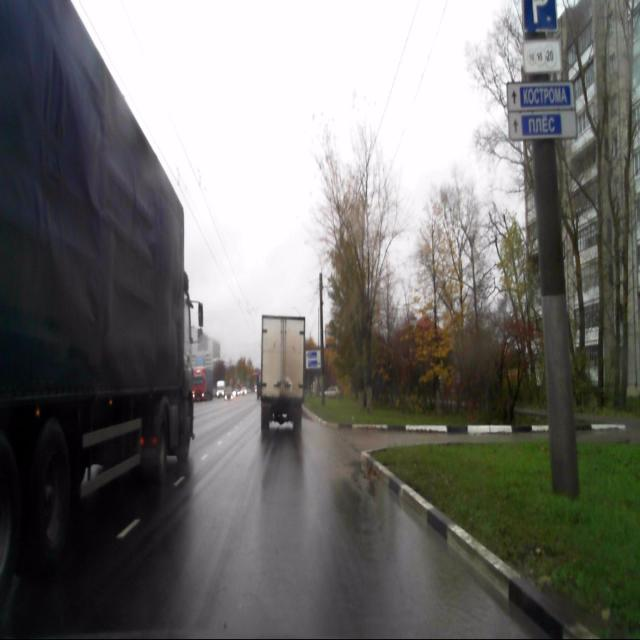road sign: (522, 38, 562, 74)
